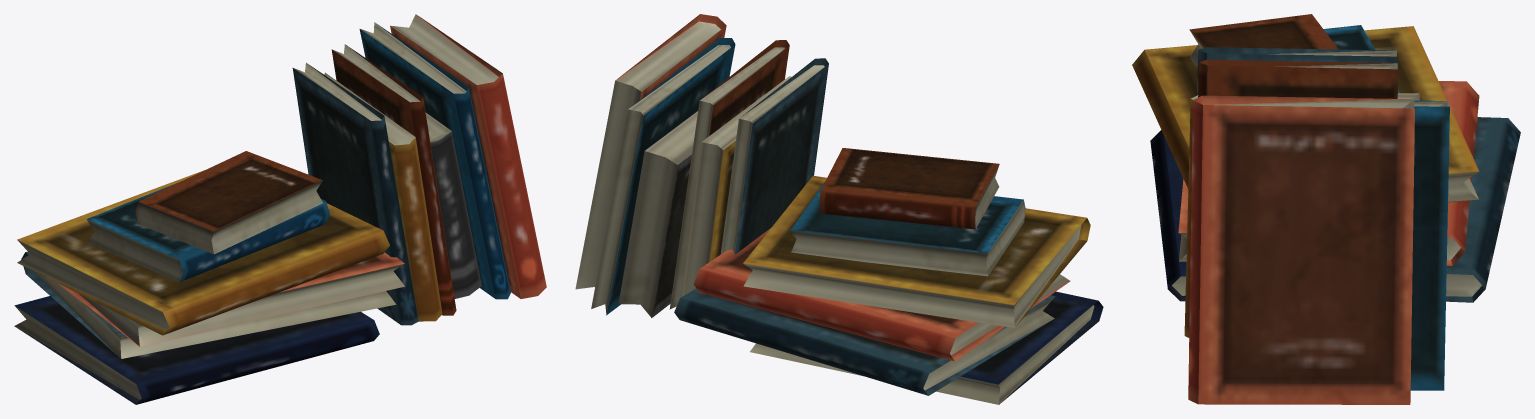
Rendered from M_Home_Garden_Book_Collection_04.fbx.
The picture shows the model from 3 angles, left to right: view 1: azimuth 30°, elevation 25°; view 2: azimuth 150°, elevation 25°; view 3: azimuth 270°, elevation 25°; orthographic projection. The views are drawn at different scales.
Parts seen in each view (by area): view 1: M_Home_Garden_Book_Collection_04; view 2: M_Home_Garden_Book_Collection_04; view 3: M_Home_Garden_Book_Collection_04.
Boxes of the visible parts, bbox=[...] form: M_Home_Garden_Book_Collection_04: bbox=[14, 14, 546, 404]; M_Home_Garden_Book_Collection_04: bbox=[575, 14, 1103, 404]; M_Home_Garden_Book_Collection_04: bbox=[1132, 14, 1520, 404].
Bounding box in the file's own units: 71.21 × 35.27 × 44.04.
